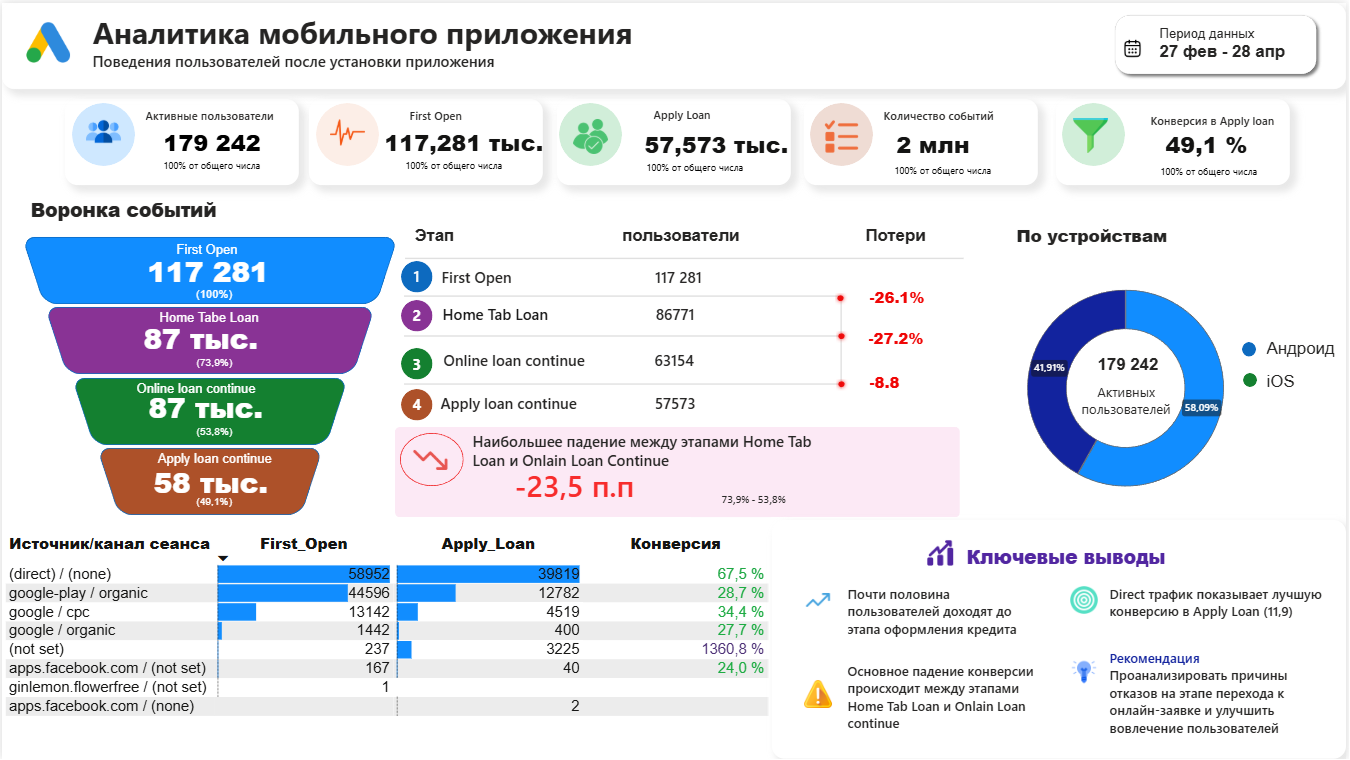

What the dashboard file says about the page in this screenshot:
{"tool":"powerbi","page":{"name":"Mobile App","canvas":[1920,1080],"ordinal":0},"visuals":[{"type":"shape","box":[89.6,137,334,123],"z":0},{"type":"shape","box":[561,304,808,296],"z":1000},{"type":"image","box":[120.6,159,50,50],"z":2000},{"type":"textbox","box":[584,313,789,44],"z":3000},{"type":"textbox","box":[199.6,145,203.6,39.1],"z":4000},{"type":"shape","box":[575,353,798,24],"z":5000},{"type":"textbox","box":[225.6,218,150.9,35.5],"z":6000},{"type":"shape","box":[570.2,368.4,45,45],"z":7000},{"type":"shape","box":[100.6,142.9,90,90],"z":8000},{"type":"textbox","box":[582.9,370,30.8,40.8],"z":9000},{"type":"shape","box":[438.6,137,334,123],"z":10000},{"type":"textbox","box":[581.6,437.1,22.3,36.3],"z":11000},{"type":"image","box":[468.6,160,50,50],"z":12000},{"type":"shape","box":[569.7,424.1,45,45],"z":13000},{"type":"textbox","box":[577,145.4,101.8,32.7],"z":14000},{"type":"textbox","box":[581,425,34.5,43.6],"z":15000},{"type":"textbox","box":[571.6,218.5,150.9,35.5],"z":16000},{"type":"shape","box":[569.7,492.6,45,45],"z":17000},{"type":"shape","box":[448.6,142.9,90,90],"z":18000},{"type":"textbox","box":[582,495,33.6,41.8],"z":19000},{"type":"shape","box":[793,137,334,123],"z":20000},{"type":"shape","box":[569.7,551.9,45,45],"z":21000},{"type":"image","box":[816.3,166.2,50,50],"z":22000},{"type":"textbox","box":[581,553,34.5,40.9],"z":23000},{"type":"textbox","box":[926.3,144.6,112.3,39.2],"z":24000},{"type":"shape","box":[574,406,624,26],"z":25000},{"type":"textbox","box":[916.3,221.5,151.5,28.5],"z":26000},{"type":"shape","box":[574,466,624,20],"z":27000},{"type":"shape","box":[796.3,142.9,90,90],"z":28000},{"type":"shape","box":[574,533,626,23],"z":29000},{"type":"cardVisual","fields":{"Data":["Funnel_Events.First Open"]},"box":[534,165.4,256.2,63.8],"z":30000},{"type":"textbox","box":[623,371,750,39],"z":31000},{"type":"cardVisual","fields":{"Data":["Funnel_Events.Apply Loan"]},"box":[905.7,167.1,240,62.9],"z":32000},{"type":"textbox","box":[623.6,424.2,442.7,41.8],"z":33000},{"type":"shape","box":[1145.8,137,334,123],"z":34000},{"type":"textbox","box":[626.3,490.5,462.7,44.5],"z":35000},{"type":"image","box":[1174.9,165.5,50,50],"z":36000},{"type":"shape","box":[1444.5,361.2,475,401.2],"z":37000,"group":"g1"},{"type":"textbox","box":[621.8,551.5,470.9,40.9],"z":37000},{"type":"textbox","box":[1254.8,145,203.6,39.1],"z":38000},{"type":"donutChart","title":"По устройствам ","fields":{"Category":["OS_Events.Операционная система"],"Y":["Sum(OS_Events.Активные пользователи)"]},"box":[1315.7,361.2,578.8,377.5],"z":38000,"group":"g1"},{"type":"shape","box":[562,605,807,129],"z":39000},{"type":"textbox","box":[1269.8,226.2,150.9,35.5],"z":40000},{"type":"textbox","box":[1444.5,310,348.8,46.2],"z":40000,"group":"g1"},{"type":"textbox","box":[1800.7,475,118.8,46.2],"z":41000,"group":"g1"},{"type":"textbox","box":[667.3,605.1,506.4,66.4],"z":41000},{"type":"shape","box":[1154.8,142.9,90,90],"z":42000},{"type":"textbox","box":[1800.7,521.2,118.8,46.2],"z":42000,"group":"g1"},{"type":"shape","box":[1772.1,484.5,20,20.9],"z":43000,"group":"g1"},{"type":"textbox","box":[726.5,654,236.2,79.8],"z":43000},{"type":"cardVisual","fields":{"Data":["Funnel_Events.Количество событий мера"]},"box":[1265.7,168.6,192.9,64.3],"z":44000},{"type":"shape","box":[1773,528.2,20,20],"z":44000,"group":"g1"},{"type":"textbox","box":[1559.5,497.5,118.8,46.2],"z":45000,"group":"g1"},{"type":"textbox","box":[1022.9,694.3,140,39.9],"z":45000},{"type":"shape","box":[1506.1,137,334,123],"z":46000},{"type":"textbox","box":[1526.9,537.5,157.5,63.8],"z":46000,"group":"g1"},{"type":"shape","box":[568.1,613.8,90.8,75.8],"z":47000},{"type":"image","box":[1530,164.3,50,50],"z":48000},{"type":"image","box":[582,624.1,60.9,57.3],"z":49000},{"type":"textbox","box":[1635.2,152.2,203.6,39.1],"z":50000},{"type":"shape","box":[1184,421,29,129],"z":51000},{"type":"textbox","box":[1649.7,226.7,150.9,35.5],"z":52000},{"type":"shape","box":[1187.7,411,21.4,20.5],"z":53000},{"type":"shape","box":[1514.3,142.9,90,90],"z":54000},{"type":"shape","box":[1188,466,21.4,20.5],"z":55000},{"type":"cardVisual","fields":{"Data":["Funnel_Events.Конверсия Apply Loan"]},"box":[1649.7,168.9,173.3,64.4],"z":56000},{"type":"shape","box":[1189,534,21.4,20.5],"z":57000},{"type":"textbox","box":[225.6,172,168,56],"z":58000},{"type":"textbox","box":[1234.3,400,105.7,41.4],"z":59000},{"type":"textbox","box":[0,0,1920,122.9],"z":60000},{"type":"textbox","box":[1233.5,458,106,41],"z":61000},{"type":"image","box":[31.7,23.3,70,66.7],"z":62000},{"type":"textbox","box":[1234.1,522,105.5,40.9],"z":63000},{"type":"shape","box":[1581.7,8.3,305,101.7],"z":64000},{"type":"image","box":[1600,48.3,30,34],"z":65000},{"type":"textbox","box":[1648.3,28.3,220,65],"z":66000},{"type":"textbox","box":[35,271.7,515,71.7],"z":67000},{"type":"shape","box":[28.6,334.3,537.1,95.7],"z":68000},{"type":"textbox","box":[244.2,337.7,118.1,36.9],"z":69000},{"type":"group","id":"g1","title":"Группа 3","box":[1315.7,310,604.3,452.9],"z":70000},{"type":"cardVisual","fields":{"Data":["Funnel_Events.First Open"]},"box":[196.3,357.7,213.8,49.2],"z":71000},{"type":"pivotTable","title":"ысы","fields":{"Rows":["Source_Events.Источник/канал сеанса"],"Values":["Source_Events.Активные пользователи Sourse_Event","Source_Events.Apply Loan Sourse","Source_Events.Conversion Source"]},"box":[0,751.4,1100,328.6],"z":72000},{"type":"textbox","box":[220.2,403.1,166.2,31.5],"z":73000},{"type":"shape","box":[1100,738.6,820,341.4],"z":74000},{"type":"shape","box":[61.4,434.3,471.4,95.7],"z":75000},{"type":"textbox","box":[1372.9,767.1,350,47.1],"z":76000},{"type":"textbox","box":[219.8,434.6,166.9,32.3],"z":77000},{"type":"textbox","box":[1203.3,825,275,91.7],"z":78000},{"type":"cardVisual","fields":{"Data":["Funnel_Events.Home Tab Loan"]},"box":[189.8,452.3,226.9,47.7],"z":79000},{"type":"textbox","box":[1203.3,935,288.3,121.7],"z":80000},{"type":"textbox","box":[219.8,500,166.9,31.5],"z":81000},{"type":"textbox","box":[1576.7,916.7,316.7,140],"z":82000},{"type":"shape","box":[100,535.7,394.3,95.7],"z":83000},{"type":"textbox","box":[1576.7,825,316.7,91.7],"z":84000},{"type":"image","box":[1312.9,767.1,55.7,37.1],"z":85000},{"type":"image","box":[1145.7,832.9,40,40],"z":86000},{"type":"image","box":[1145.7,967.1,40,40],"z":87000},{"type":"image","box":[1525.7,832.9,40,40],"z":88000},{"type":"image","box":[1525.7,935.7,40,40],"z":89000},{"type":"textbox","box":[187.5,536.2,231.5,31.5],"z":90000},{"type":"cardVisual","fields":{"Data":["Funnel_Events.Home Tab Loan"]},"box":[196.7,550.8,213.1,48.5],"z":91000},{"type":"textbox","box":[219.7,598.5,167.1,36.7],"z":92000},{"type":"shape","box":[135.7,635.7,322.9,95.7],"z":93000},{"type":"textbox","box":[187.9,635.6,230.6,35],"z":94000},{"type":"cardVisual","fields":{"Data":["Funnel_Events.Apply Loan"]},"box":[204.5,657.5,197.5,46.9],"z":95000},{"type":"textbox","box":[253,698.6,100.5,30],"z":96000}]}

Visuals, with their boxes in screenshot pixels (x1, y1, x2, y2), scaled from the page's 1920x1080 canvas onto the 1350x760 screenshot:
shape: bbox=(63, 96, 298, 183)
shape: bbox=(394, 214, 963, 422)
image: bbox=(85, 112, 120, 147)
textbox: bbox=(411, 220, 965, 251)
textbox: bbox=(140, 102, 284, 130)
shape: bbox=(404, 248, 965, 265)
textbox: bbox=(159, 153, 265, 178)
shape: bbox=(401, 259, 433, 291)
shape: bbox=(71, 101, 134, 164)
textbox: bbox=(410, 260, 432, 289)
shape: bbox=(308, 96, 543, 183)
textbox: bbox=(409, 308, 425, 333)
image: bbox=(329, 113, 365, 148)
shape: bbox=(401, 298, 432, 330)
textbox: bbox=(406, 102, 477, 125)
textbox: bbox=(409, 299, 433, 330)
textbox: bbox=(402, 154, 508, 179)
shape: bbox=(401, 347, 432, 378)
shape: bbox=(315, 101, 379, 164)
textbox: bbox=(409, 348, 433, 378)
shape: bbox=(558, 96, 792, 183)
shape: bbox=(401, 388, 432, 420)
image: bbox=(574, 117, 609, 152)
textbox: bbox=(409, 389, 433, 418)
textbox: bbox=(651, 102, 730, 129)
shape: bbox=(404, 286, 842, 304)
textbox: bbox=(644, 156, 751, 176)
shape: bbox=(404, 328, 842, 342)
shape: bbox=(560, 101, 623, 164)
shape: bbox=(404, 375, 844, 391)
cardVisual - Funnel_Events.First Open: bbox=(375, 116, 556, 161)
textbox: bbox=(438, 261, 965, 289)
cardVisual - Funnel_Events.Apply Loan: bbox=(637, 118, 806, 162)
textbox: bbox=(438, 299, 750, 328)
shape: bbox=(806, 96, 1040, 183)
textbox: bbox=(440, 345, 766, 376)
image: bbox=(826, 116, 861, 152)
shape: bbox=(1016, 254, 1349, 537)
textbox: bbox=(437, 388, 768, 417)
textbox: bbox=(882, 102, 1025, 130)
"По устройствам " donutChart: bbox=(925, 254, 1332, 520)
shape: bbox=(395, 426, 963, 517)
textbox: bbox=(893, 159, 999, 184)
textbox: bbox=(1016, 218, 1261, 251)
textbox: bbox=(1266, 334, 1349, 367)
textbox: bbox=(469, 426, 825, 473)
shape: bbox=(812, 101, 875, 164)
textbox: bbox=(1266, 367, 1349, 399)
shape: bbox=(1246, 341, 1260, 356)
textbox: bbox=(511, 460, 677, 516)
cardVisual - Funnel_Events.Количество событий мера: bbox=(890, 119, 1026, 164)
shape: bbox=(1247, 372, 1261, 386)
textbox: bbox=(1097, 350, 1180, 383)
textbox: bbox=(719, 489, 818, 517)
shape: bbox=(1059, 96, 1294, 183)
textbox: bbox=(1074, 378, 1184, 423)
shape: bbox=(399, 432, 463, 485)
image: bbox=(1076, 116, 1111, 151)
image: bbox=(409, 439, 452, 480)
textbox: bbox=(1150, 107, 1293, 135)
shape: bbox=(832, 296, 853, 387)
textbox: bbox=(1160, 160, 1266, 185)
shape: bbox=(835, 289, 850, 304)
shape: bbox=(1065, 101, 1128, 164)
shape: bbox=(835, 328, 850, 342)
cardVisual - Funnel_Events.Конверсия Apply Loan: bbox=(1160, 119, 1282, 164)
shape: bbox=(836, 376, 851, 390)
textbox: bbox=(159, 121, 277, 160)
textbox: bbox=(868, 281, 942, 311)
textbox: bbox=(0, 0, 1349, 86)
textbox: bbox=(867, 322, 942, 351)
image: bbox=(22, 16, 72, 63)
textbox: bbox=(868, 367, 942, 396)
shape: bbox=(1112, 6, 1327, 77)
image: bbox=(1125, 34, 1146, 58)
textbox: bbox=(1159, 20, 1314, 66)
textbox: bbox=(25, 191, 387, 242)
shape: bbox=(20, 235, 398, 303)
textbox: bbox=(172, 238, 255, 264)
"Группа 3" group: bbox=(925, 218, 1349, 537)
cardVisual - Funnel_Events.First Open: bbox=(138, 252, 288, 286)
"ысы" pivotTable: bbox=(0, 529, 773, 759)
textbox: bbox=(155, 284, 272, 306)
shape: bbox=(773, 520, 1349, 759)
shape: bbox=(43, 306, 375, 373)
textbox: bbox=(965, 540, 1211, 573)
textbox: bbox=(155, 306, 272, 329)
textbox: bbox=(846, 581, 1039, 645)
cardVisual - Funnel_Events.Home Tab Loan: bbox=(133, 318, 293, 352)
textbox: bbox=(846, 658, 1049, 744)
textbox: bbox=(155, 352, 272, 374)
textbox: bbox=(1109, 645, 1331, 744)
shape: bbox=(70, 377, 348, 444)
textbox: bbox=(1109, 581, 1331, 645)
image: bbox=(923, 540, 962, 566)
image: bbox=(806, 586, 834, 614)
image: bbox=(806, 681, 834, 709)
image: bbox=(1073, 586, 1101, 614)
image: bbox=(1073, 658, 1101, 687)
textbox: bbox=(132, 377, 295, 399)
cardVisual - Funnel_Events.Home Tab Loan: bbox=(138, 388, 288, 422)
textbox: bbox=(154, 421, 272, 447)
shape: bbox=(95, 447, 322, 515)
textbox: bbox=(132, 447, 294, 472)
cardVisual - Funnel_Events.Apply Loan: bbox=(144, 463, 283, 496)
textbox: bbox=(178, 492, 249, 513)
